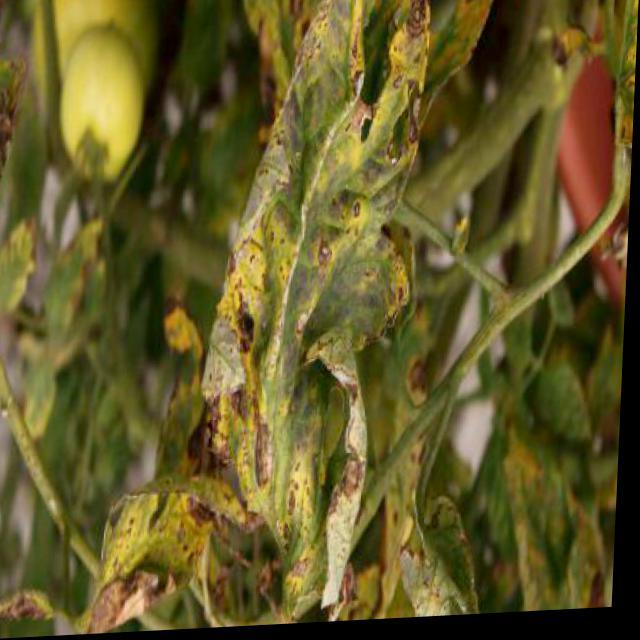Tomato Septoria spot leaf: (195, 0, 438, 622), (47, 473, 239, 631)
